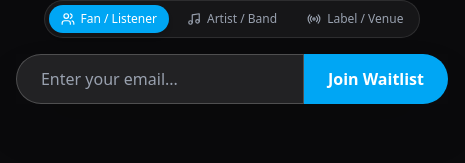
Test: WaitlistForm Component › handles non-JSON / HTML error responses gracefully without throwing syntax errors
Type "test@example.com" into the field with placeholder "Enter your email..." at (160, 79), box [16,54,304,104]
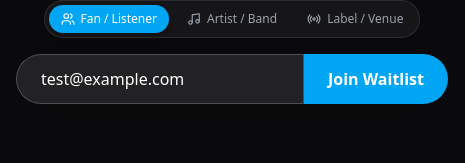
Submit the form with placeholder "Enter your email...", box [16,54,448,104]
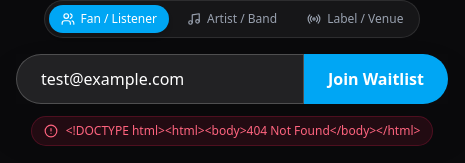
Check: the text "<!DOCTYPE html><html><body>404 Not Found</body></html>" is shown, box [66,123,420,139]
